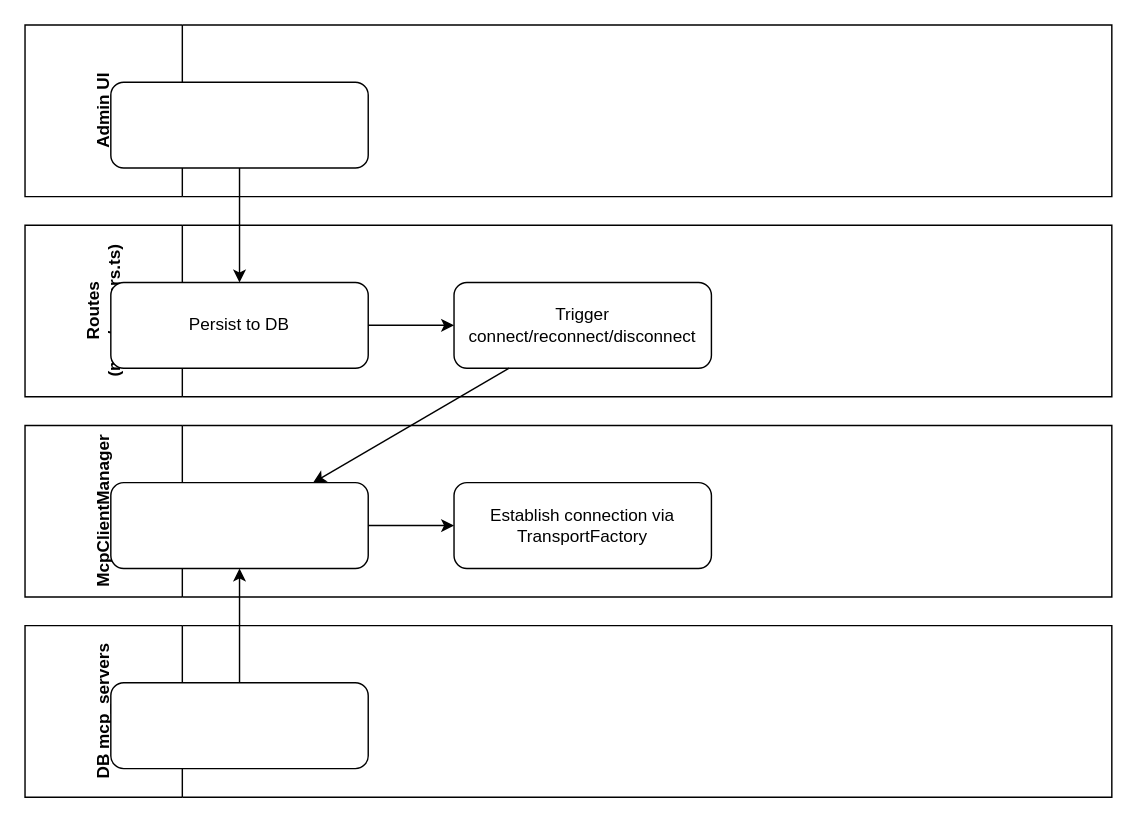
The diagram is 1137 pixels wide and 822 high, and some of its shapes have lost their labels. Each missing label, with the centre of its shape:
Normalize transport type: [238,524]
Read enabled servers on startup: [238,725]
User creates/updates server config: [238,124]
